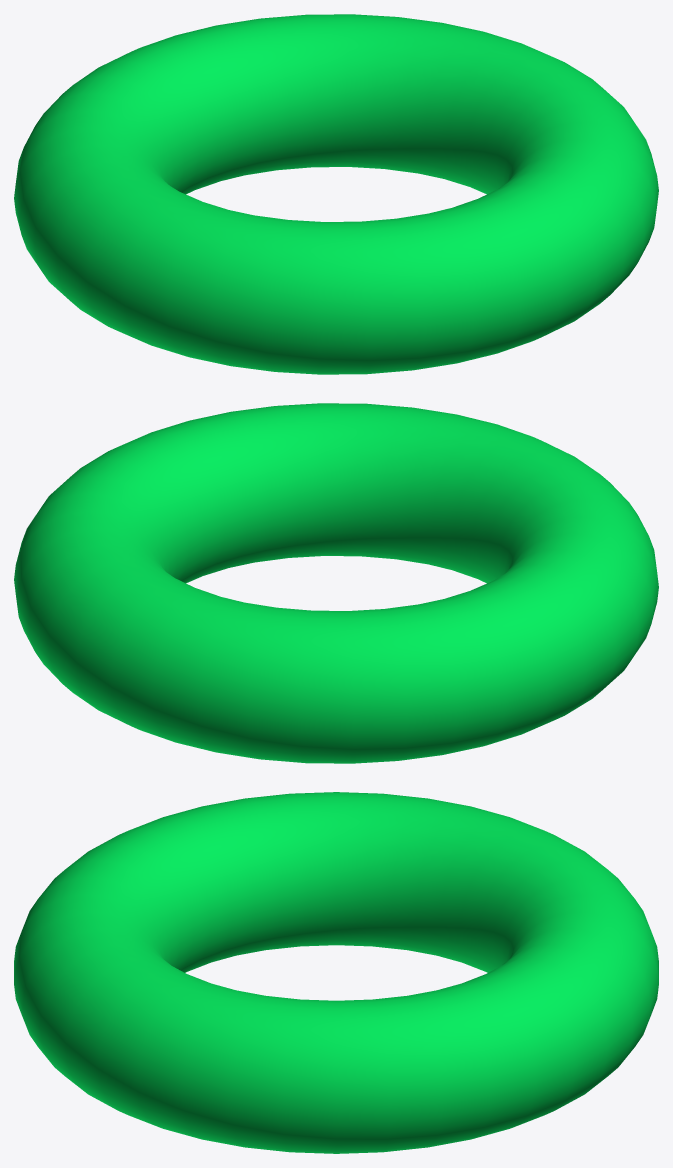
The picture shows the model from 3 angles, top to bottom: view 1: azimuth 30°, elevation 25°; view 2: azimuth 150°, elevation 25°; view 3: azimuth 270°, elevation 25°; orthographic projection.
Visible parts, largest first — view 1: Torus.002; view 2: Torus.002; view 3: Torus.002.
Boxes of the visible parts, box(x1,y1,x2,y2) form: Torus.002: box(14, 14, 658, 374); Torus.002: box(14, 403, 658, 763); Torus.002: box(14, 792, 658, 1153).
Bounding box in the file's own units: 1.04 × 0.2456 × 1.03.
